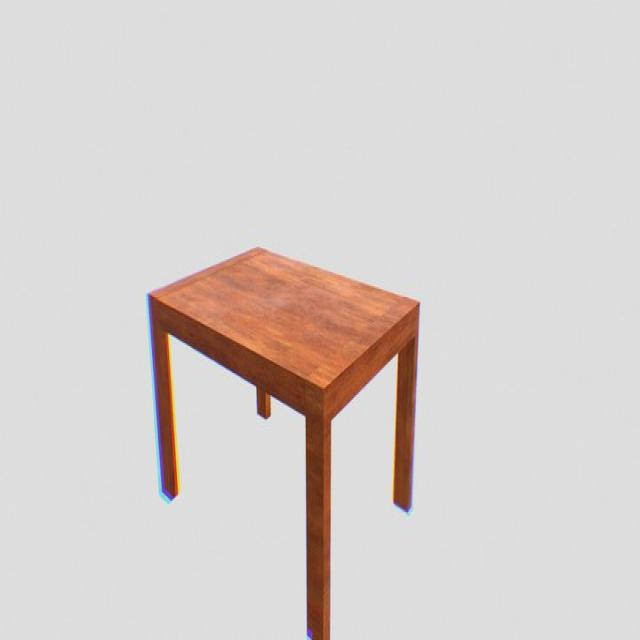table: (146, 245, 420, 640)
